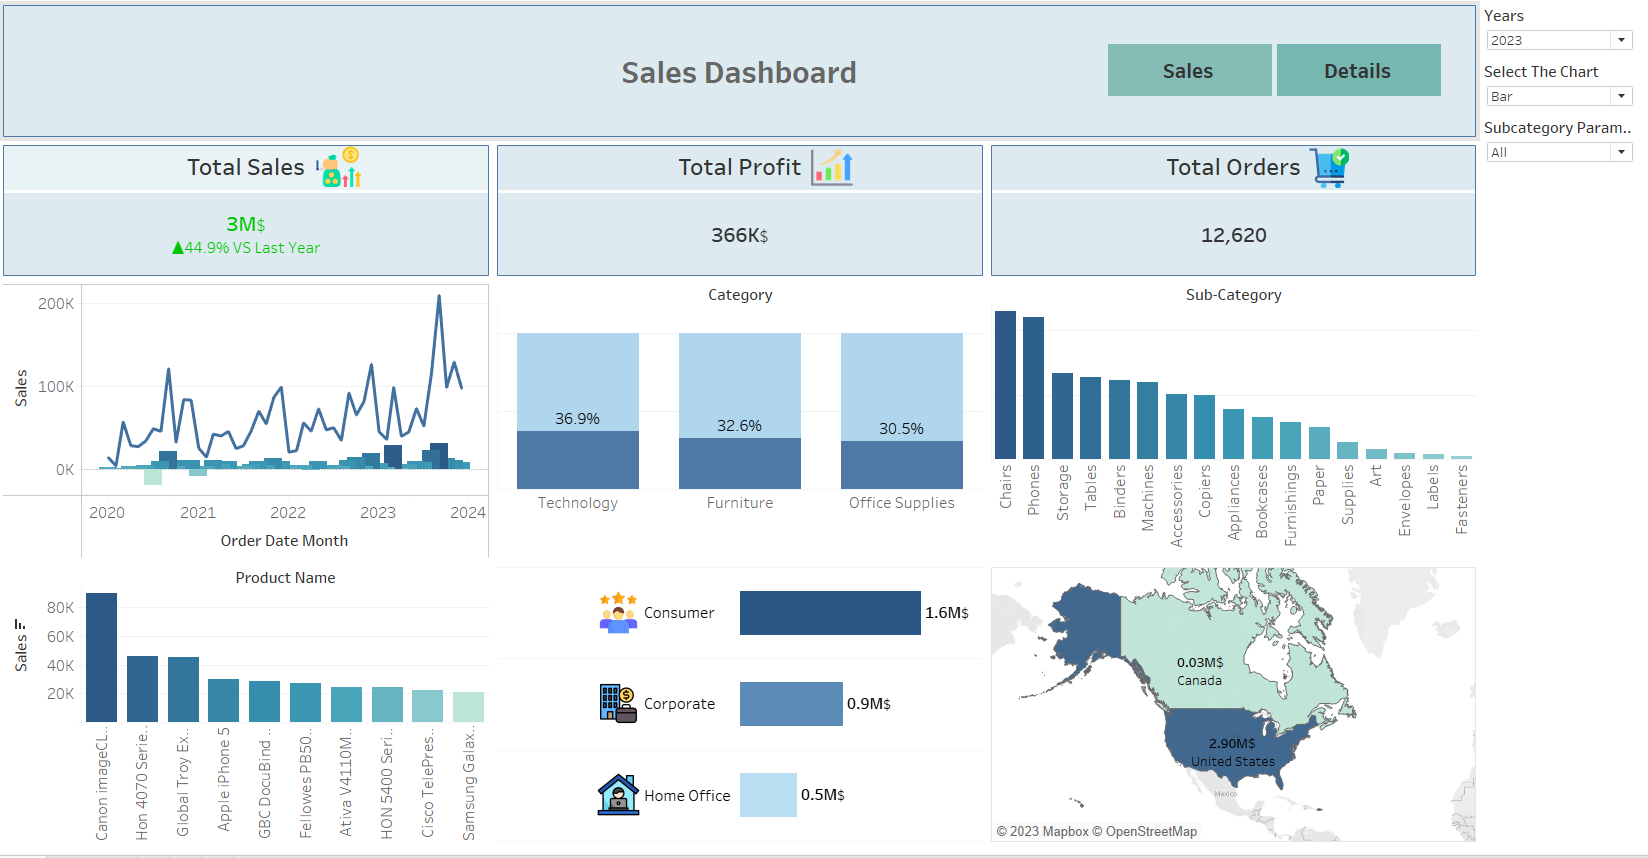

The dashboard page shown, as its layout file describes it:
{"tool":"tableau","page":{"name":"Sales Dashboard","canvas":[1000,1000],"units":"permille","ordinal":1},"visuals":[{"type":"text","box":[4.8,9.3,893.8,162.6]},{"type":"parameter","param":"[Parameters].[Parameter 1]","box":[898.6,9.3,96.6,65]},{"type":"dashboard-object","box":[674.1,59.2,99,60.4]},{"type":"dashboard-object","box":[776.1,59.2,99,60.4]},{"type":"parameter","param":"[Parameters].[Parameter 3]","box":[898.6,74.3,96.6,65]},{"type":"parameter","param":"[Parameters].[Parameter 2]","box":[898.6,139.4,96.6,65]},{"type":"worksheet","title":"Total Sales","mark":"Automatic","box":[4.8,171.9,298.1,161.4]},{"type":"worksheet","title":"Total Profit","mark":"Automatic","box":[303,171.9,298.1,161.4]},{"type":"worksheet","title":"Total Orders","mark":"Automatic","box":[601.1,171.9,297.5,161.4]},{"type":"image","param":"Image/profit.png","box":[494.3,176.5,46.5,49.9]},{"type":"image","param":"Image/sales.png","box":[194.3,177.7,30.8,47.6]},{"type":"image","param":"Image/order.png","box":[795.4,180,36.2,46.5]},{"type":"worksheet","title":"Sales, Profit Trend","mark":"Automatic","rows":["Sales","Profit"],"cols":["Order Date"],"box":[4.8,333.3,298.1,328.7]},{"type":"worksheet","title":"Sales, Cat.","mark":"Bar","cols":["Category"],"box":[303,333.3,298.1,293.9]},{"type":"worksheet","title":"Sales, Subcat.","mark":"Automatic","rows":["Sales"],"cols":["Sub-Category"],"box":[601.1,333.3,297.5,328.7]},{"type":"worksheet","title":"Pie","mark":"Pie","box":[303,627.2,298.1,34.8]},{"type":"worksheet","title":"Sales, Product","mark":"Automatic","rows":["Sales"],"cols":["Product Name"],"box":[4.8,662,298.1,328.7]},{"type":"worksheet","title":"Sales, Segment","mark":"Shape","rows":["Segment"],"cols":["Calculation_295830201163075597","Sales"],"box":[303,662,298.1,328.7]},{"type":"worksheet","title":"Sales, Country","mark":"Automatic","box":[601.1,662,297.5,328.7]}]}

Visuals, with their boxes on the dashboard's canvas, which has no fixed pixel size, in thousandths of its width and height (x1, y1, x2, y2). These are canvas units, not pixel positions in the 1648x858 screenshot, which may show the page scaled, cropped or inside an application window:
text: box(5, 9, 899, 172)
parameter: box(899, 9, 995, 74)
dashboard-object: box(674, 59, 773, 120)
dashboard-object: box(776, 59, 875, 120)
parameter: box(899, 74, 995, 139)
parameter: box(899, 139, 995, 204)
"Total Sales" worksheet: box(5, 172, 303, 333)
"Total Profit" worksheet: box(303, 172, 601, 333)
"Total Orders" worksheet: box(601, 172, 899, 333)
image: box(494, 176, 541, 226)
image: box(194, 178, 225, 225)
image: box(795, 180, 832, 226)
"Sales, Profit Trend" worksheet: box(5, 333, 303, 662)
"Sales, Cat." worksheet (Bar marks): box(303, 333, 601, 627)
"Sales, Subcat." worksheet: box(601, 333, 899, 662)
"Pie" worksheet (Pie marks): box(303, 627, 601, 662)
"Sales, Product" worksheet: box(5, 662, 303, 991)
"Sales, Segment" worksheet (Shape marks): box(303, 662, 601, 991)
"Sales, Country" worksheet: box(601, 662, 899, 991)
